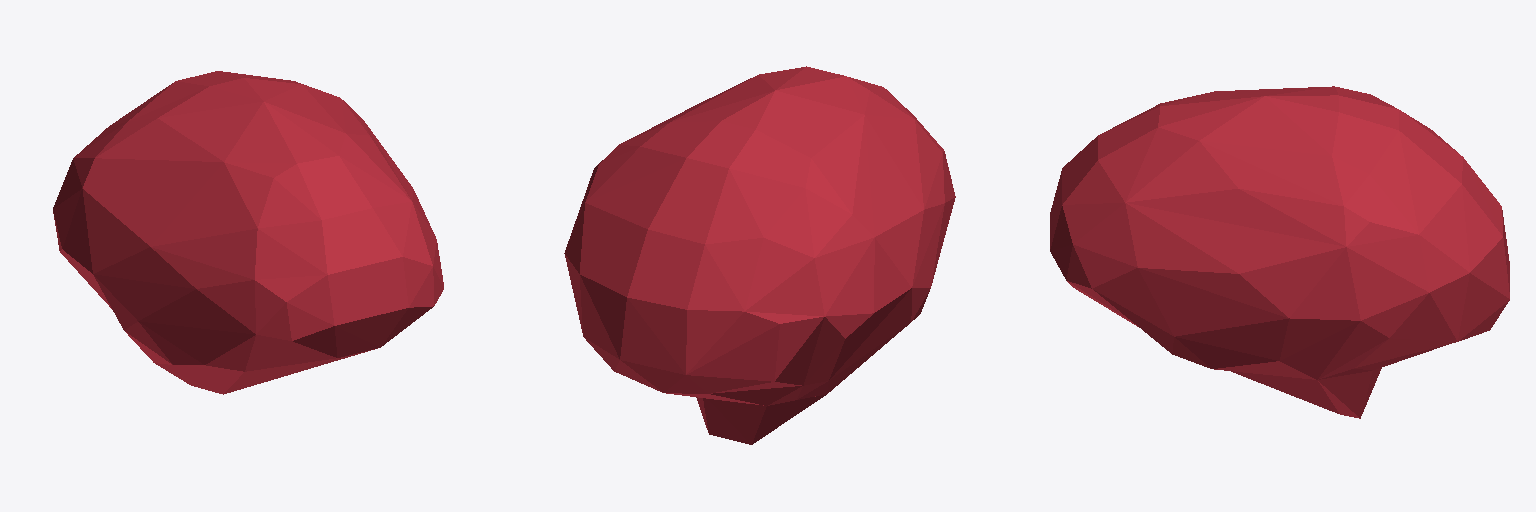
The model's file is brain.obj.
The picture shows the model from 3 angles: view 1: azimuth 30°, elevation 25°; view 2: azimuth 150°, elevation 25°; view 3: azimuth 270°, elevation 25°; orthographic projection.
Parts seen in each view (by area): view 1: brain; view 2: brain; view 3: brain.
Boxes of the visible parts, x1,y1,x2,y2 form: brain: [53, 71, 443, 394]; brain: [564, 66, 955, 444]; brain: [1050, 86, 1509, 418].
Size of the model in its own units: 1 by 0.9974 by 1.3.